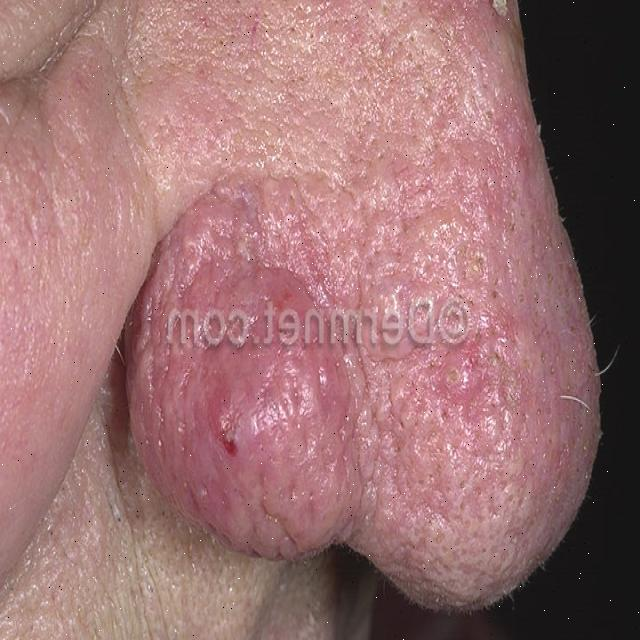images: (0, 0, 610, 639)
